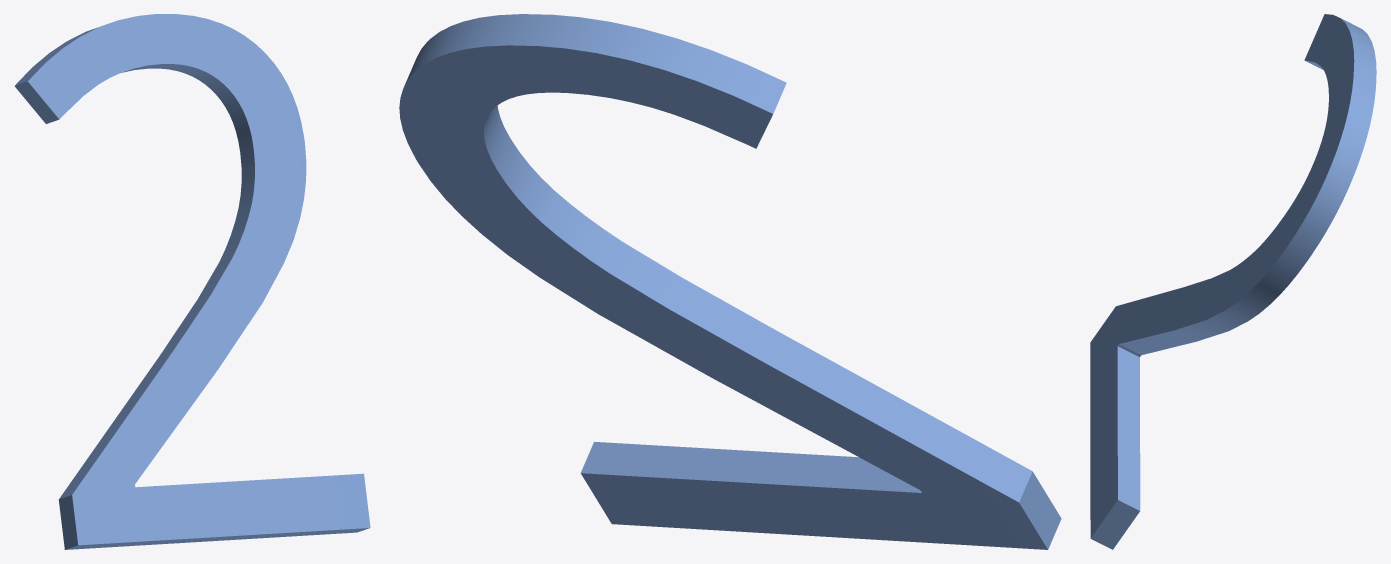
File: New_Number_2.gltf
3 renders of one model, left to right at view 1: azimuth 30°, elevation 25°; view 2: azimuth 150°, elevation 25°; view 3: azimuth 270°, elevation 25°, orthographic. The views are drawn at different scales.
Visible parts, largest first — view 1: Part 74; view 2: Part 74; view 3: Part 74.
Part boxes in pixels (x1,y1,x2,y2): Part 74: (14, 14, 370, 549); Part 74: (399, 14, 1061, 549); Part 74: (1090, 14, 1376, 549).
Size of the model in its own units: 0.00366 by 0.00483 by 0.00277.
